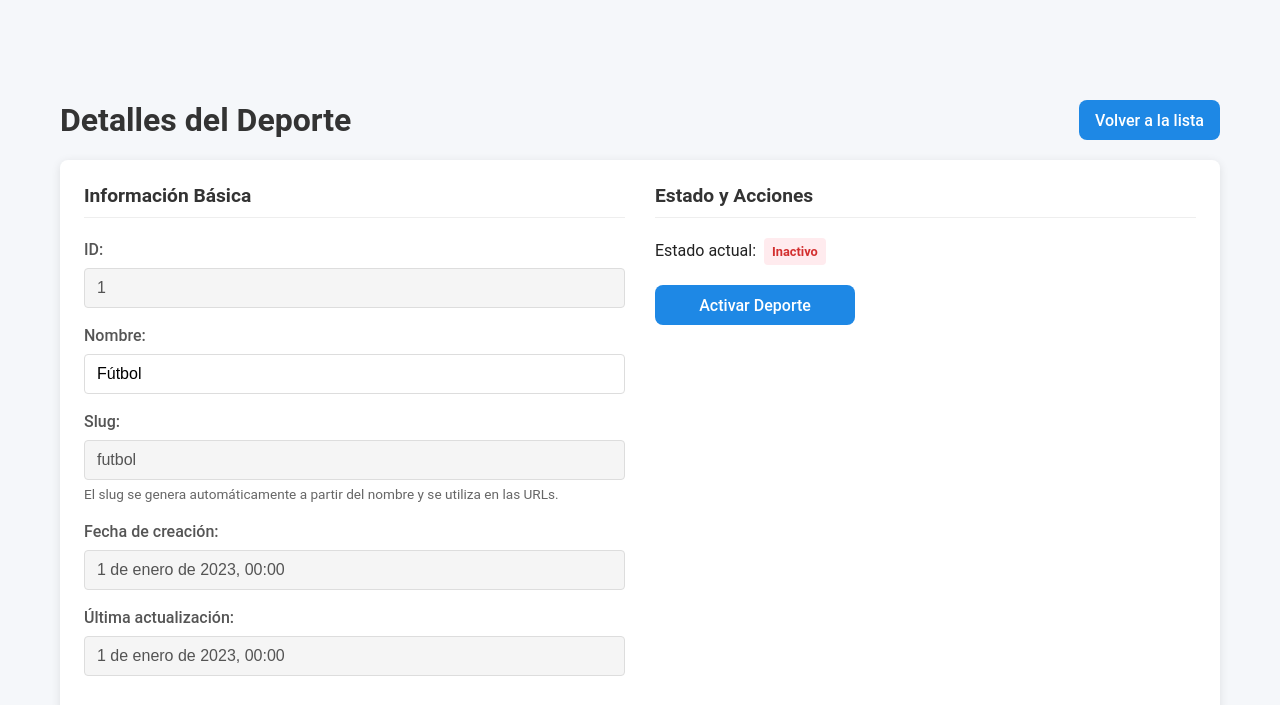
SportDetail Component › activates sport when clicking on Activar Deporte
This screenshot has width=1280, height=705.
// Activar el deporte
What coordinates should you click on to do the following:
click the button "Activar Deporte"
I would click on:
 (755, 305)
Its box is [655,285,855,325].
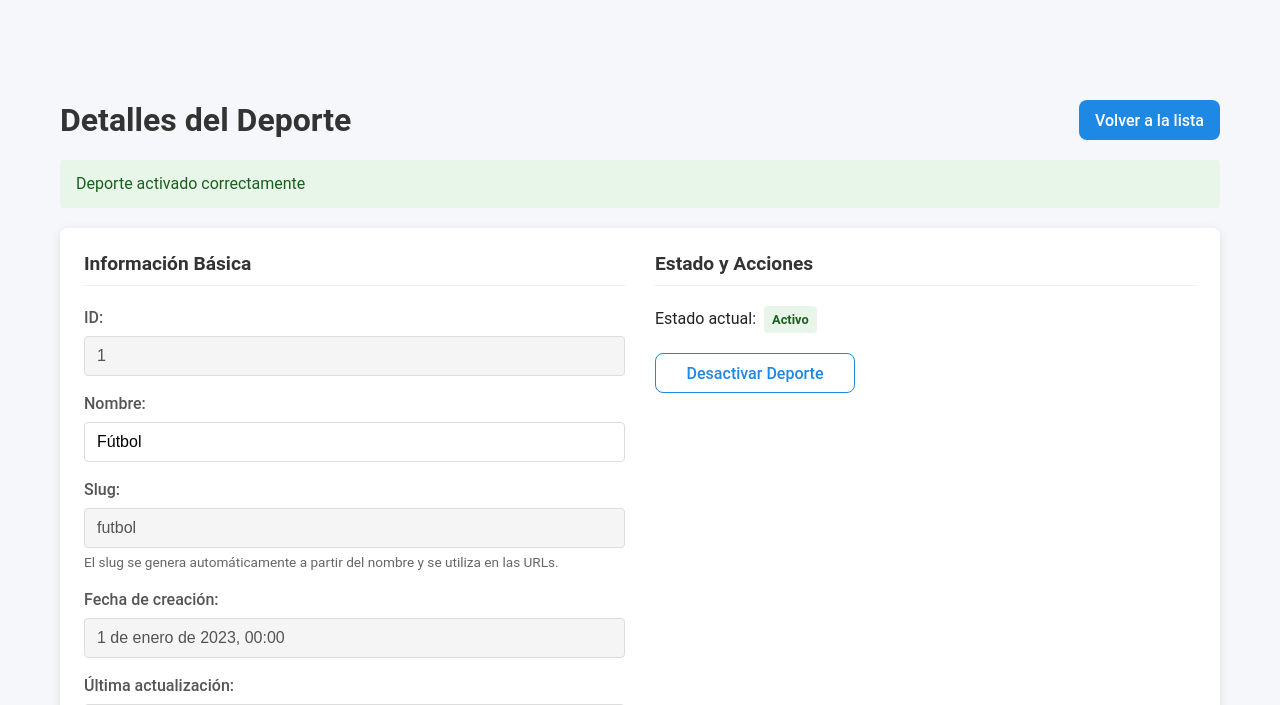
Check: the text "Deporte activado correctamente" is shown, box [60,160,1220,208]
